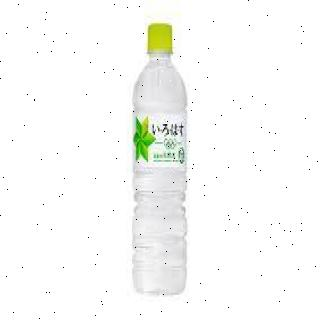Plastic-bottle: (132, 23, 190, 298)
